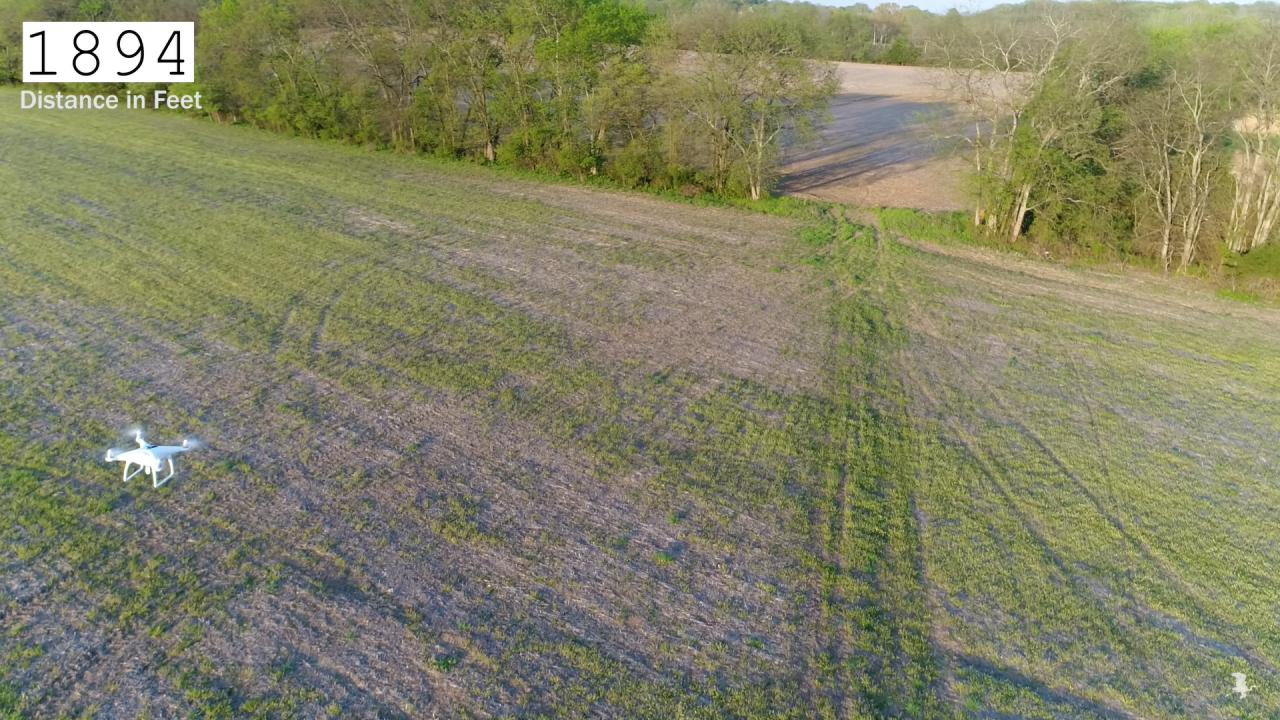Drone: (90, 411, 211, 501)
